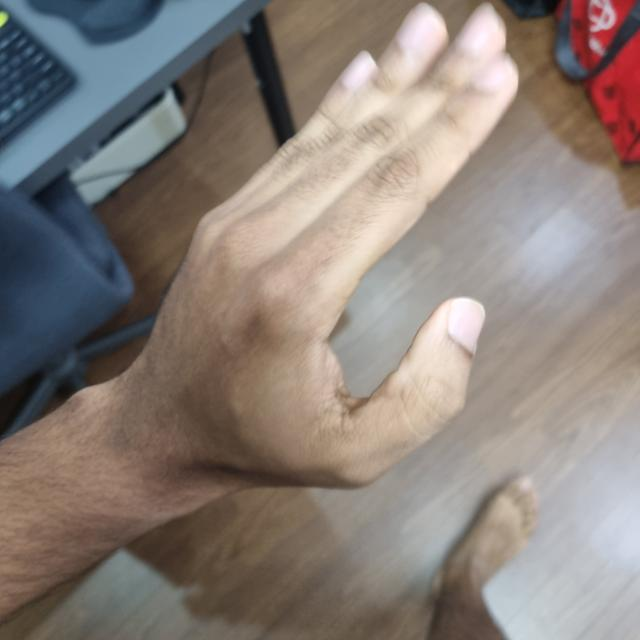Paper: (120, 196, 486, 498)
